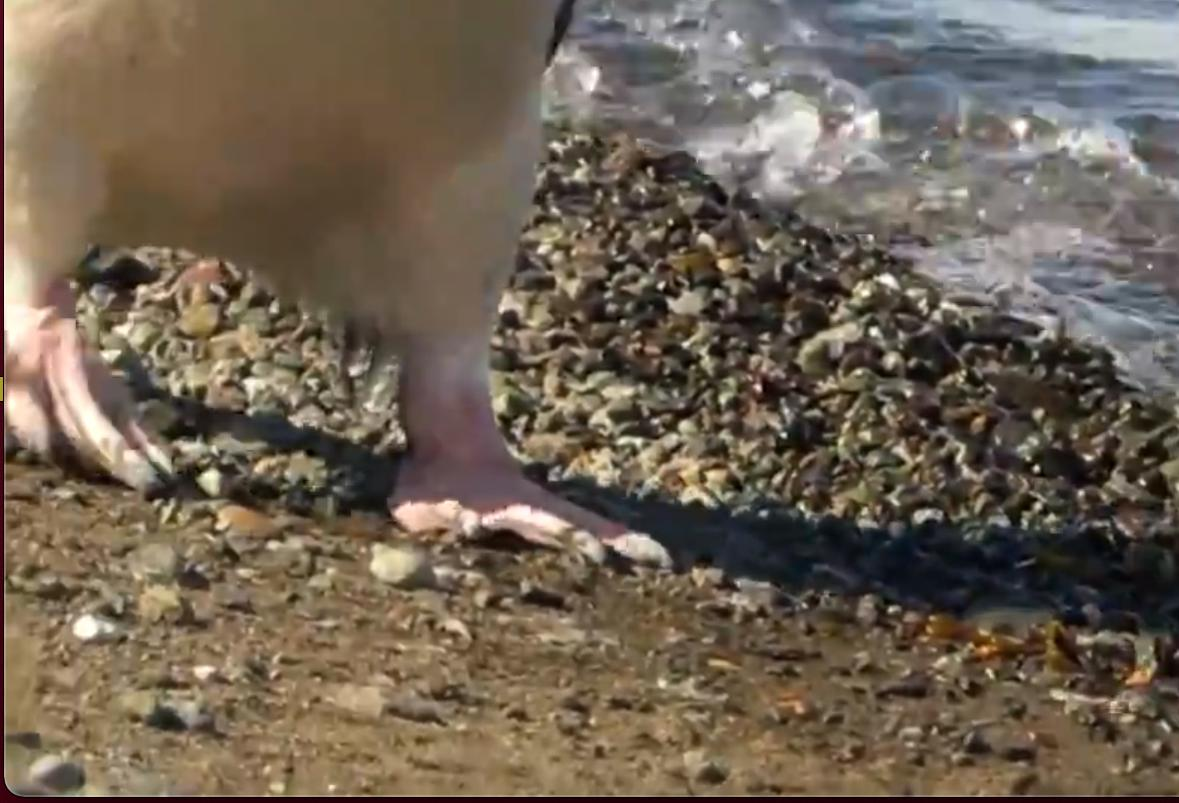Chinstrap Penguin: (0, 0, 786, 568), (1101, 0, 1179, 792)
